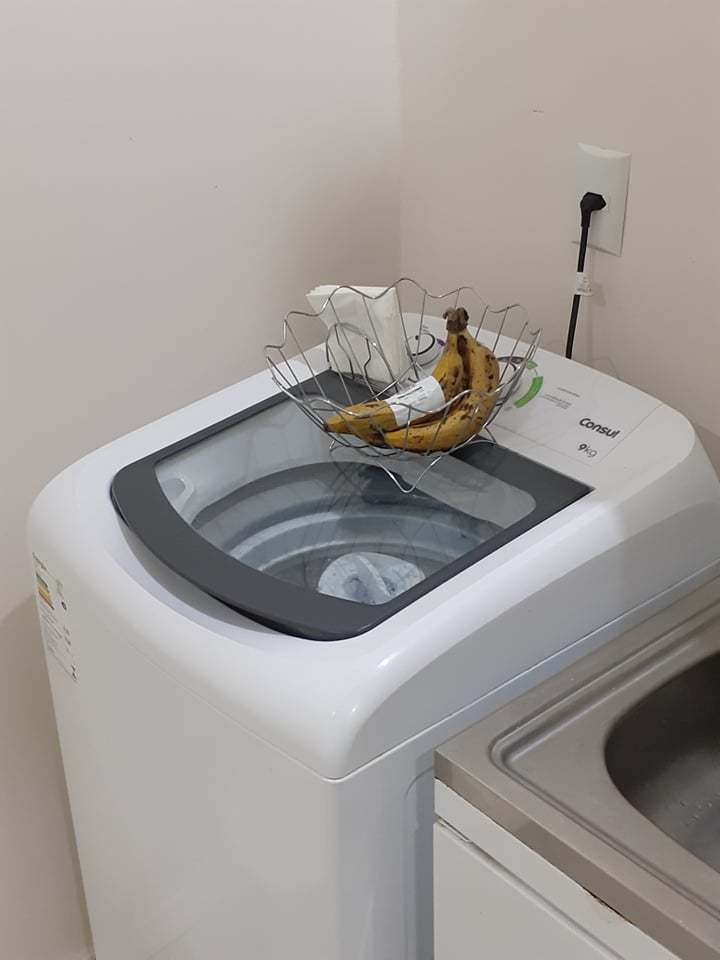banana: (333, 326, 515, 454)
